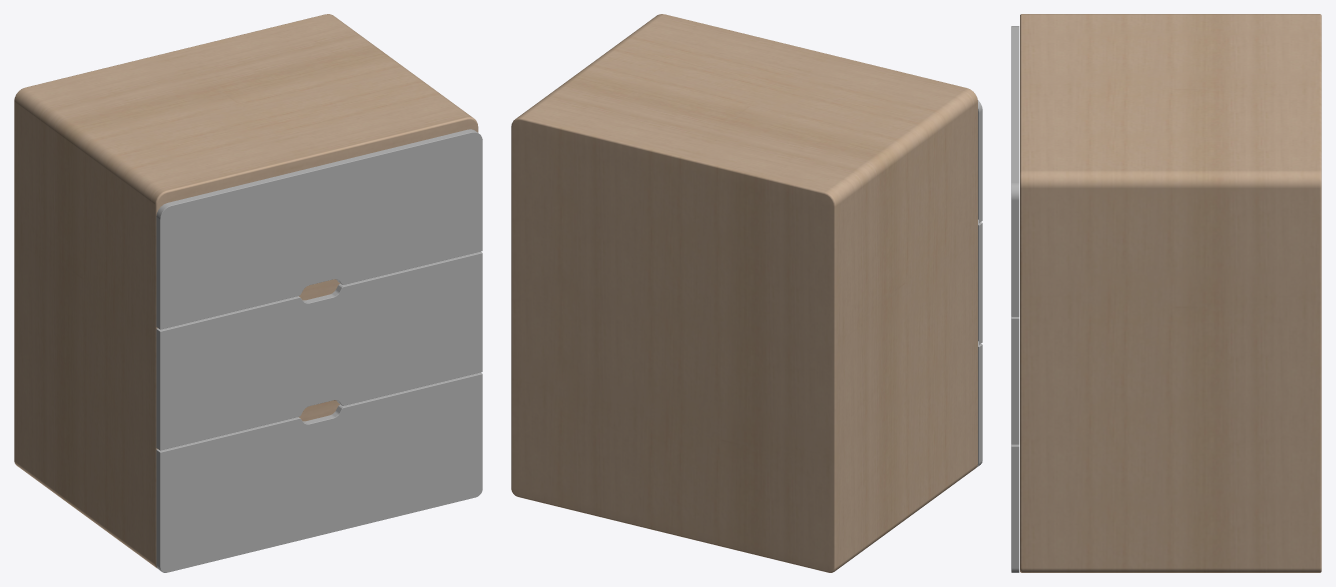
The model's file is nightstand.fbx.
3 views of the same model, side by side, from view 1: azimuth 30°, elevation 25°; view 2: azimuth 150°, elevation 25°; view 3: azimuth 270°, elevation 25° (orthographic). The views are drawn at different scales.
Parts seen in each view (by area): view 1: nightstand; view 2: nightstand; view 3: nightstand.
Boxes of the visible parts, left/top/right/bottom form: nightstand: left=14, top=14, right=482, bottom=572; nightstand: left=511, top=14, right=982, bottom=572; nightstand: left=1011, top=14, right=1321, bottom=572.
Size of the model in its own units: 20 by 15.74 by 22.35.
1 material, 1 textured.
